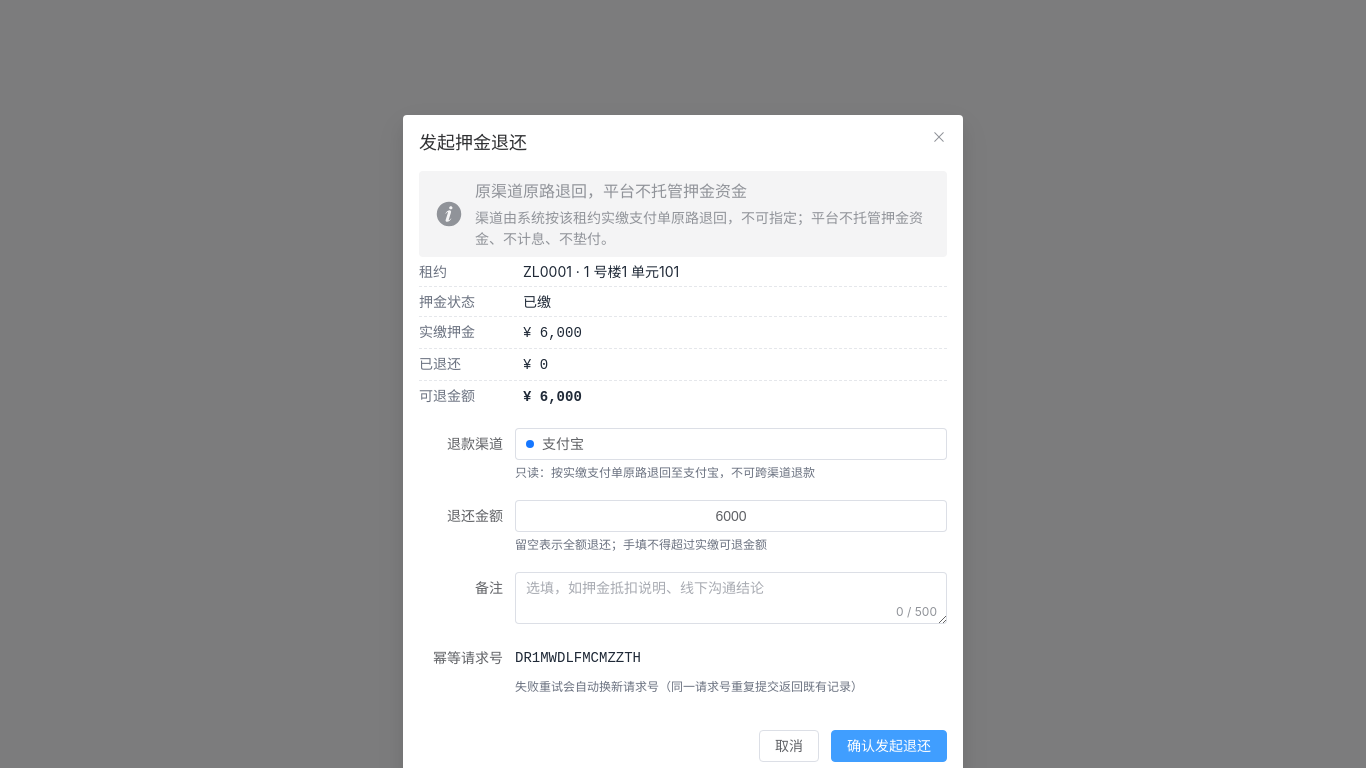
Test: DepositRefundDialog · 幂等键与失败重试（R72 §9.20.1） › 同一请求号重复提交返回既有记录，不产生第二条流水
Click the button "确认发起退还" at (889, 746), box [831,730,947,762]
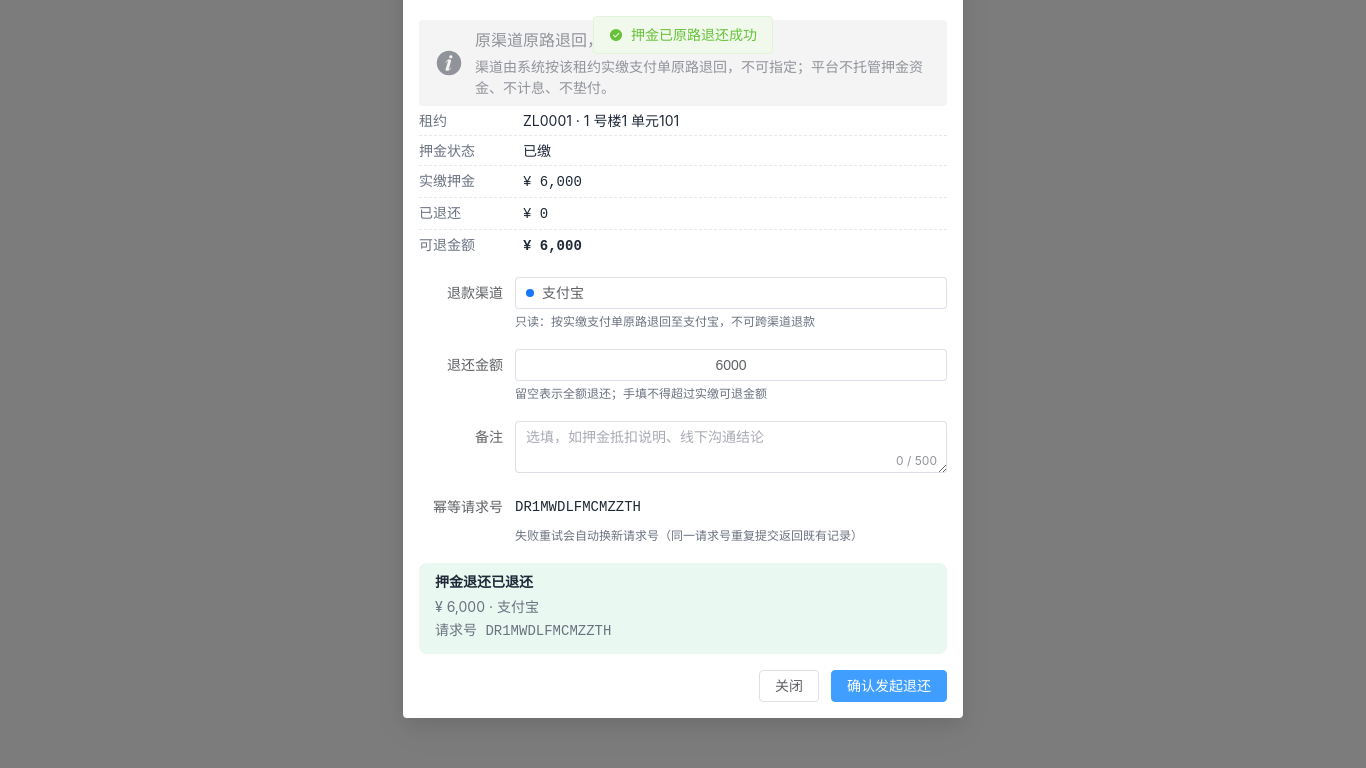
Now the element with class "result-box" shows "押金退还已退还", box [435,573,533,590]
